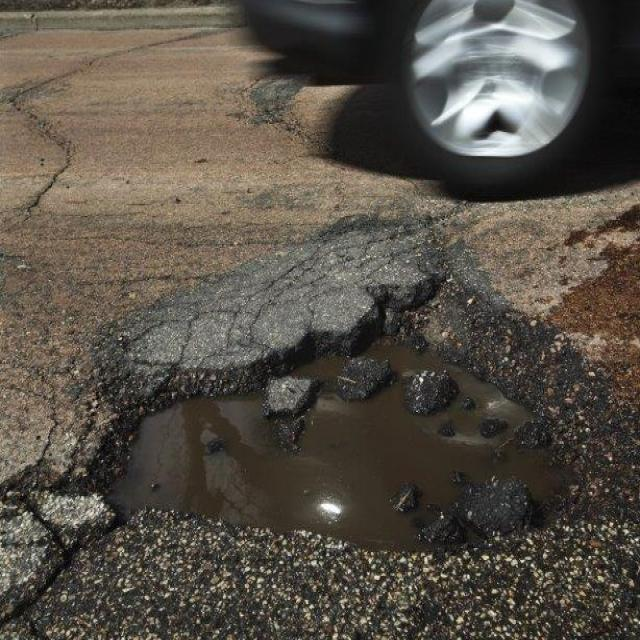lubang: (49, 254, 597, 586)
